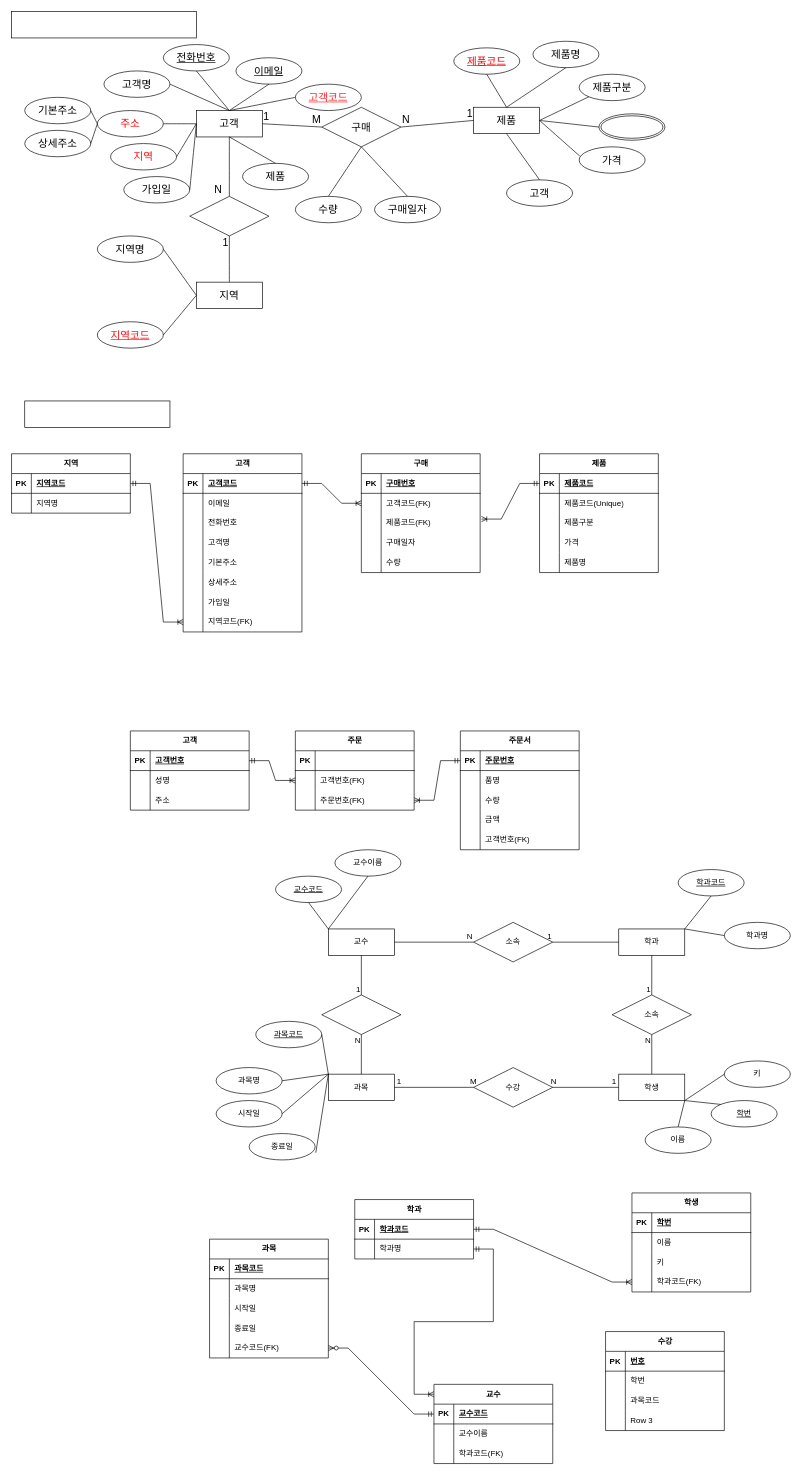
This 802x1475 diagram has some shape labels left out. Here are the shapes that lost their labels. From the top down, the centre of each, then its label:
At pixel 103 24: "온라인 전자상거래 ERD_ 이동주".
At pixel 631 126: "제품색상".
At pixel 229 216: "관리".
At pixel 97 413: "논리적인 모델링(RM)_이동주".
At pixel 361 1014: "강의".
